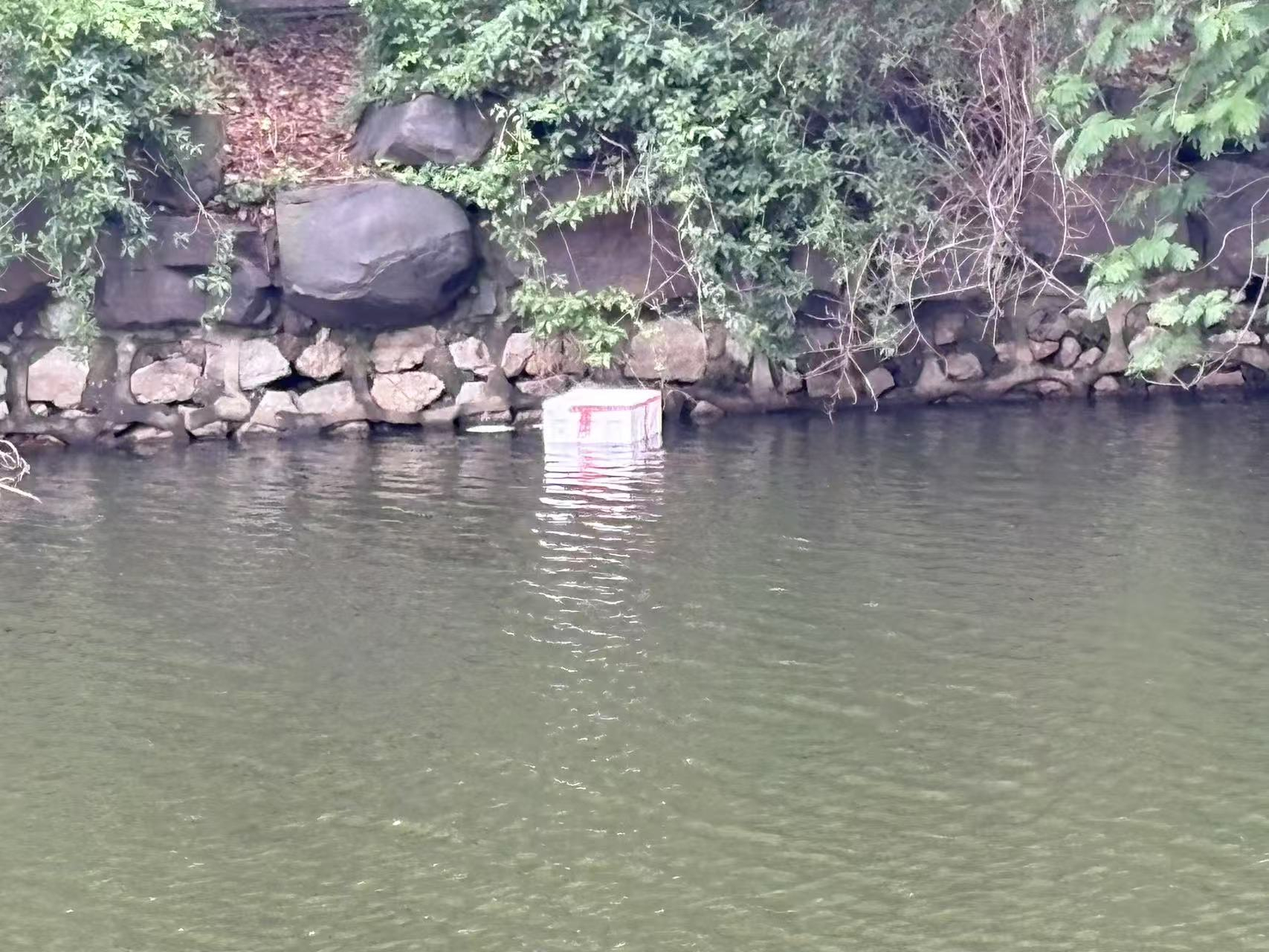Plastic wastes: (539, 388, 663, 446)
